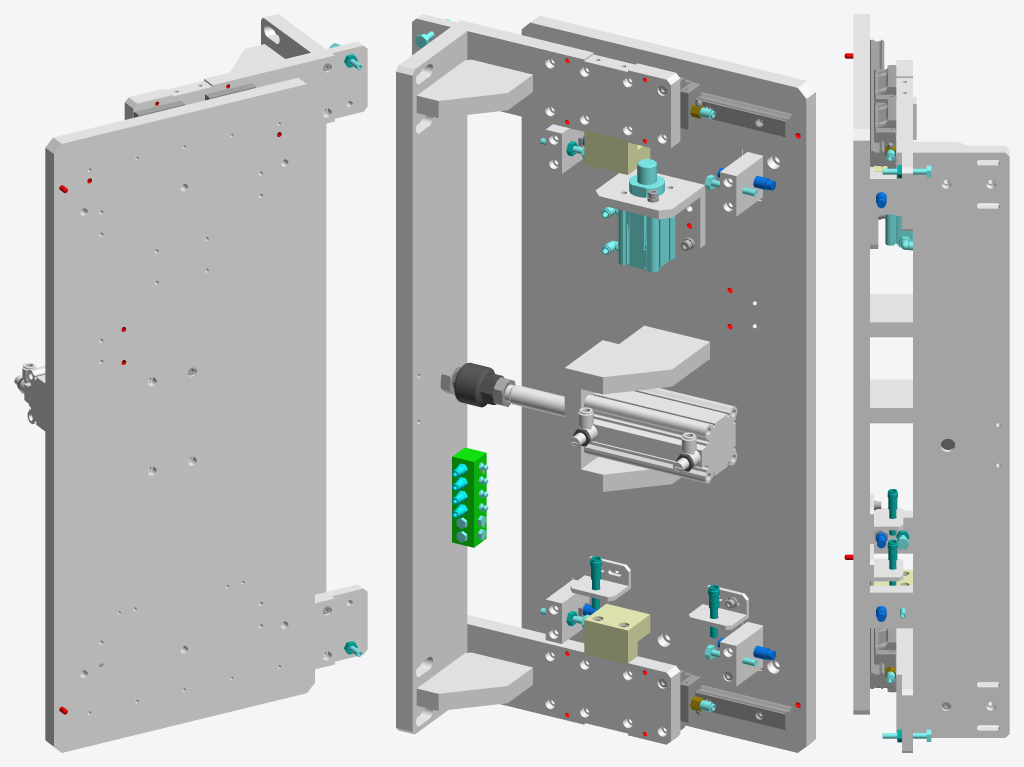
The model's file is ConvCarrier_R-transformed.glb.
3 renders of one model, left to right at view 1: azimuth 30°, elevation 25°; view 2: azimuth 150°, elevation 25°; view 3: azimuth 270°, elevation 25°, orthographic. The views are drawn at different scales.
Parts seen in each view (by area): view 1: AP727515001; view 2: AP727515001; view 3: AP727515001.
Part boxes in pixels (bbox=[...]): AP727515001: bbox=[14, 14, 367, 752]; AP727515001: bbox=[396, 14, 815, 752]; AP727515001: bbox=[844, 14, 1009, 752].
Bounding box in the file's own units: 0.4288 × 0.7366 × 0.1881.
Materials: 1 (1 with a texture image).
